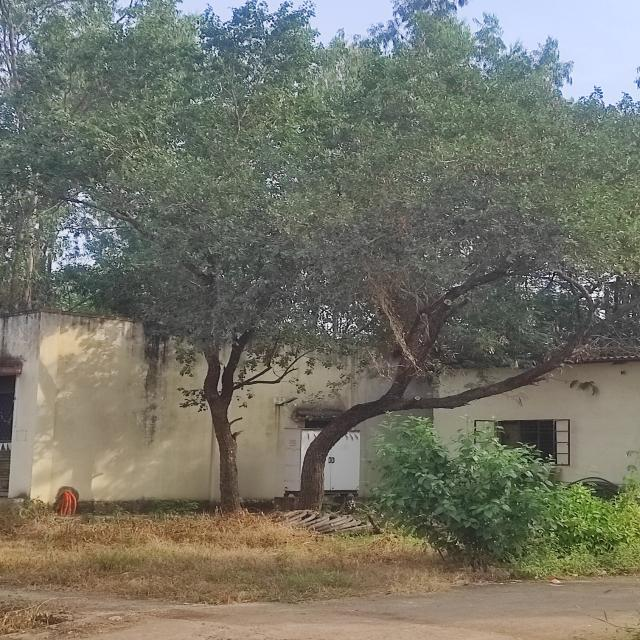Devakanchan tree: (48, 29, 616, 488)
